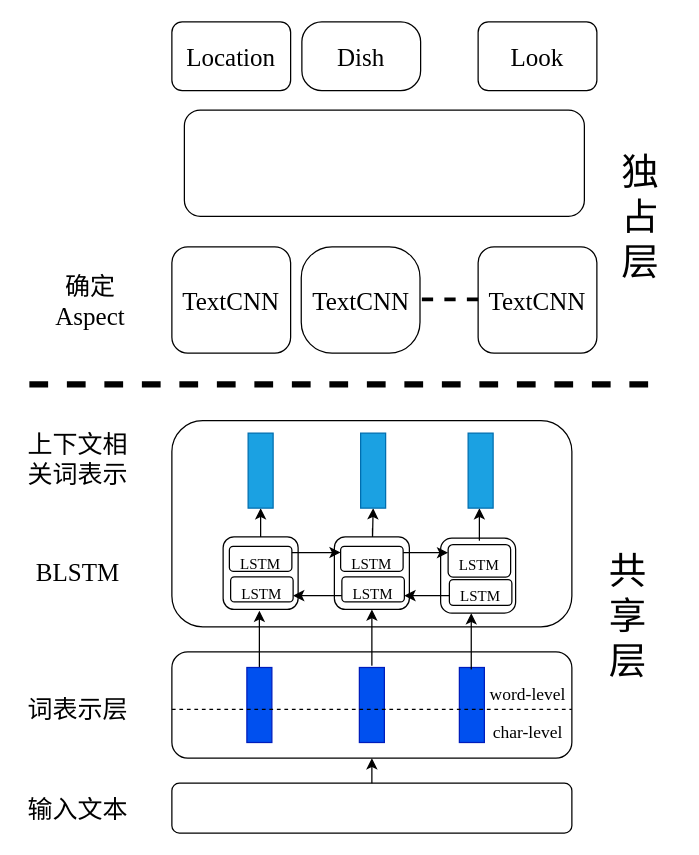
The diagram is 699 pixels wide and 855 high, and some of its shapes have lost their labels. Each missing label, with the box of its shape:
ACSA: (183, 109, 584, 216)
面条 很 好吃: (171, 782, 572, 833)
